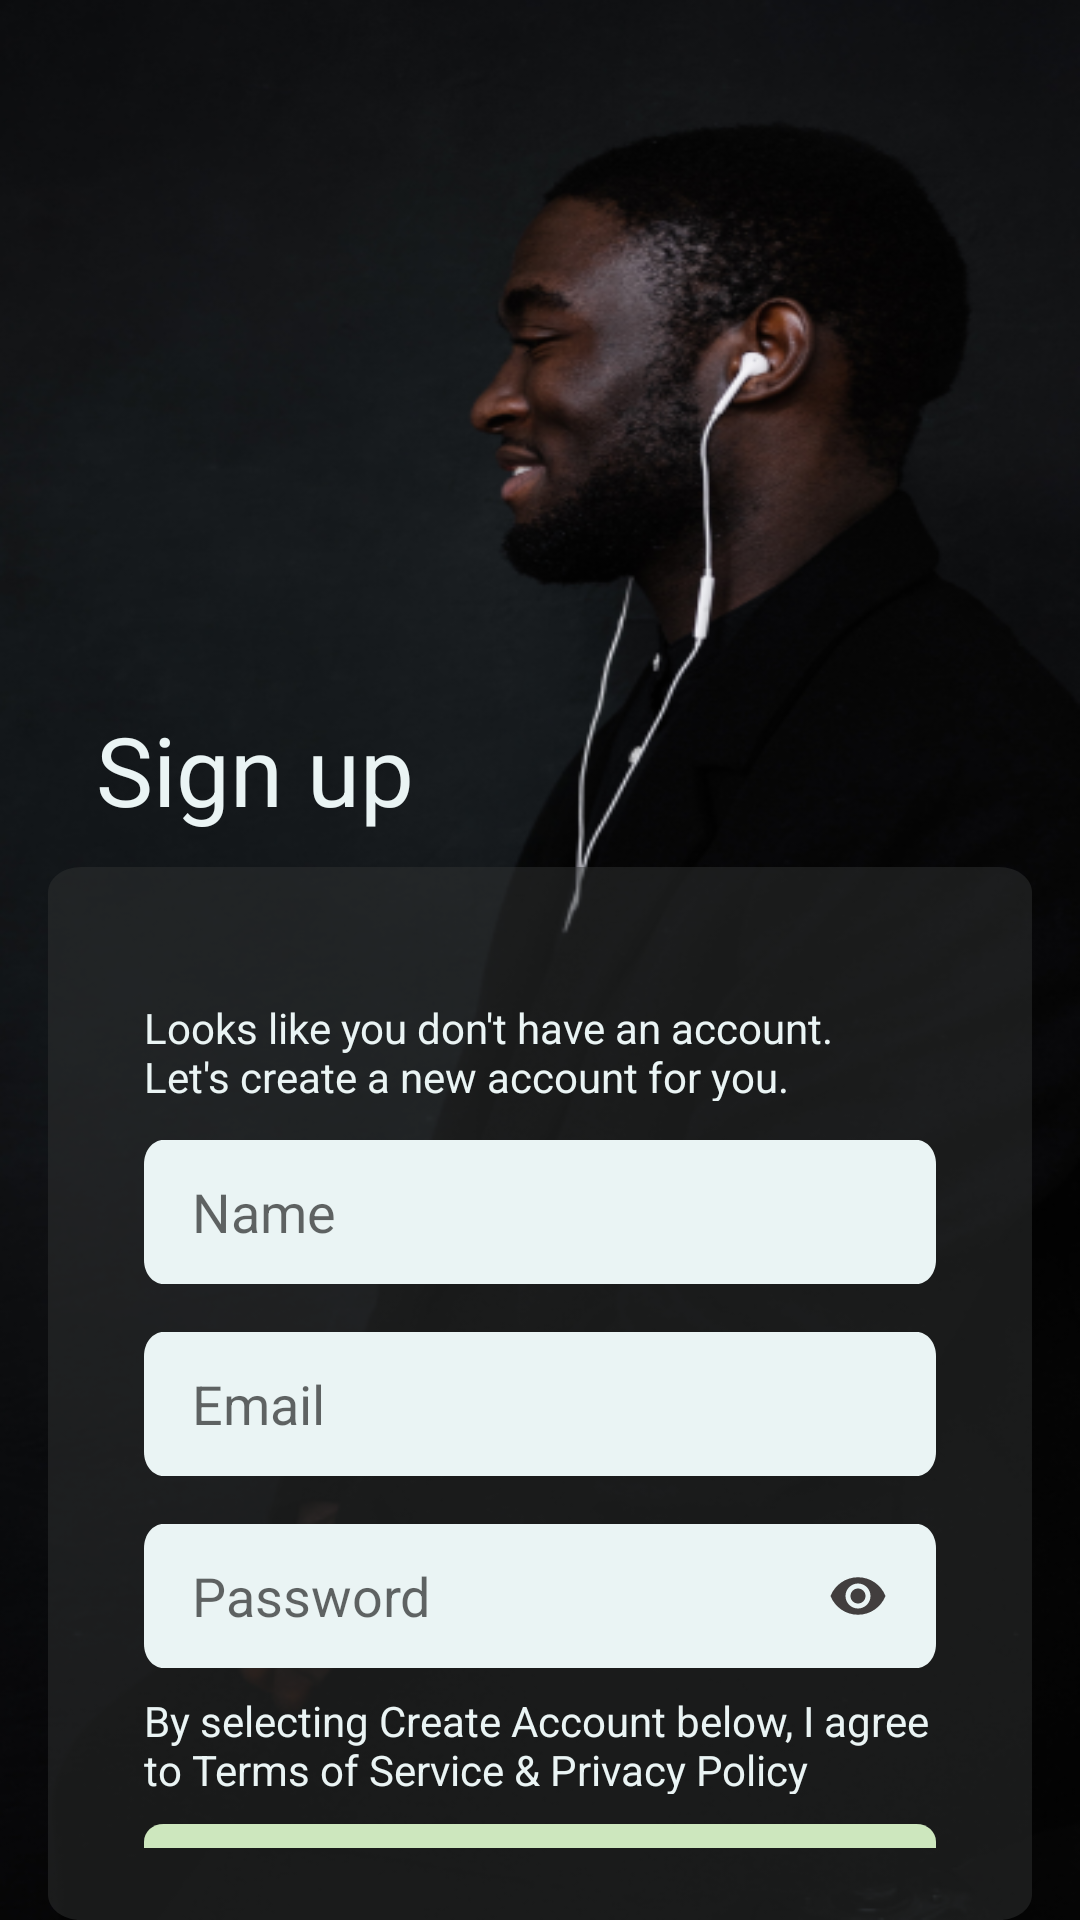

Screen size 1080*1920. Icon name, then its box in pixels as (x1, y1, x2, y2):
visibility: (830, 1577, 886, 1615)
